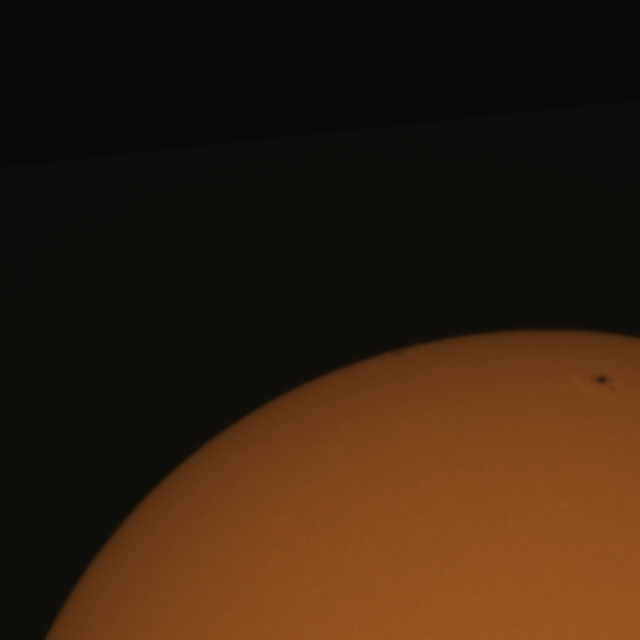sunspot: (588, 373, 619, 394)
